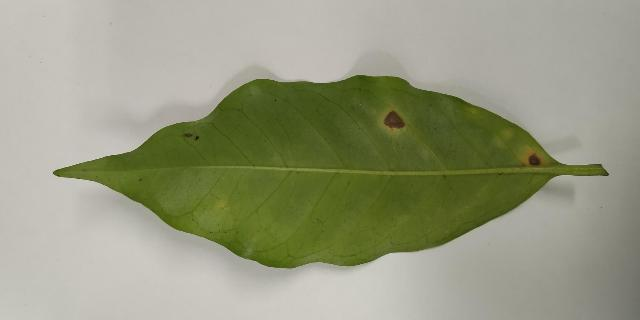phoma: (378, 104, 410, 136), (518, 147, 552, 167)
